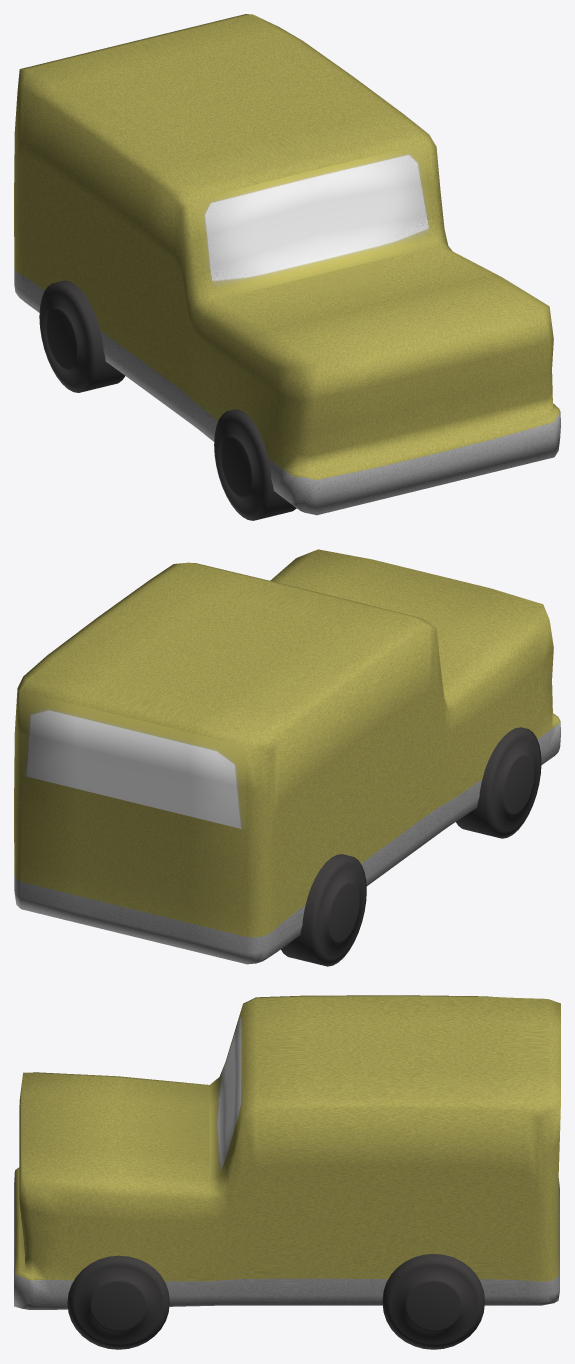
File: EnemyCar.fbx
The picture shows the model from 3 angles, top to bottom: view 1: azimuth 30°, elevation 25°; view 2: azimuth 150°, elevation 25°; view 3: azimuth 270°, elevation 25°; orthographic projection. The views are drawn at different scales.
Parts seen in each view (by area): view 1: Car.001, Wheels.003, Wheels.002; view 2: Car.001, Wheels.003, Wheels.002; view 3: Car.001, Wheels.003, Wheels.002.
Boxes of the visible parts, x1,y1,x2,y2 form: Car.001: (14, 14, 560, 515); Wheels.003: (39, 280, 124, 392); Wheels.002: (214, 409, 296, 520); Car.001: (14, 549, 560, 964); Wheels.003: (281, 854, 366, 966); Wheels.002: (456, 727, 541, 838); Car.001: (14, 995, 560, 1309); Wheels.003: (382, 1254, 484, 1349); Wheels.002: (67, 1255, 169, 1349).
Bounding box in the file's own units: 222 × 202 × 411.
